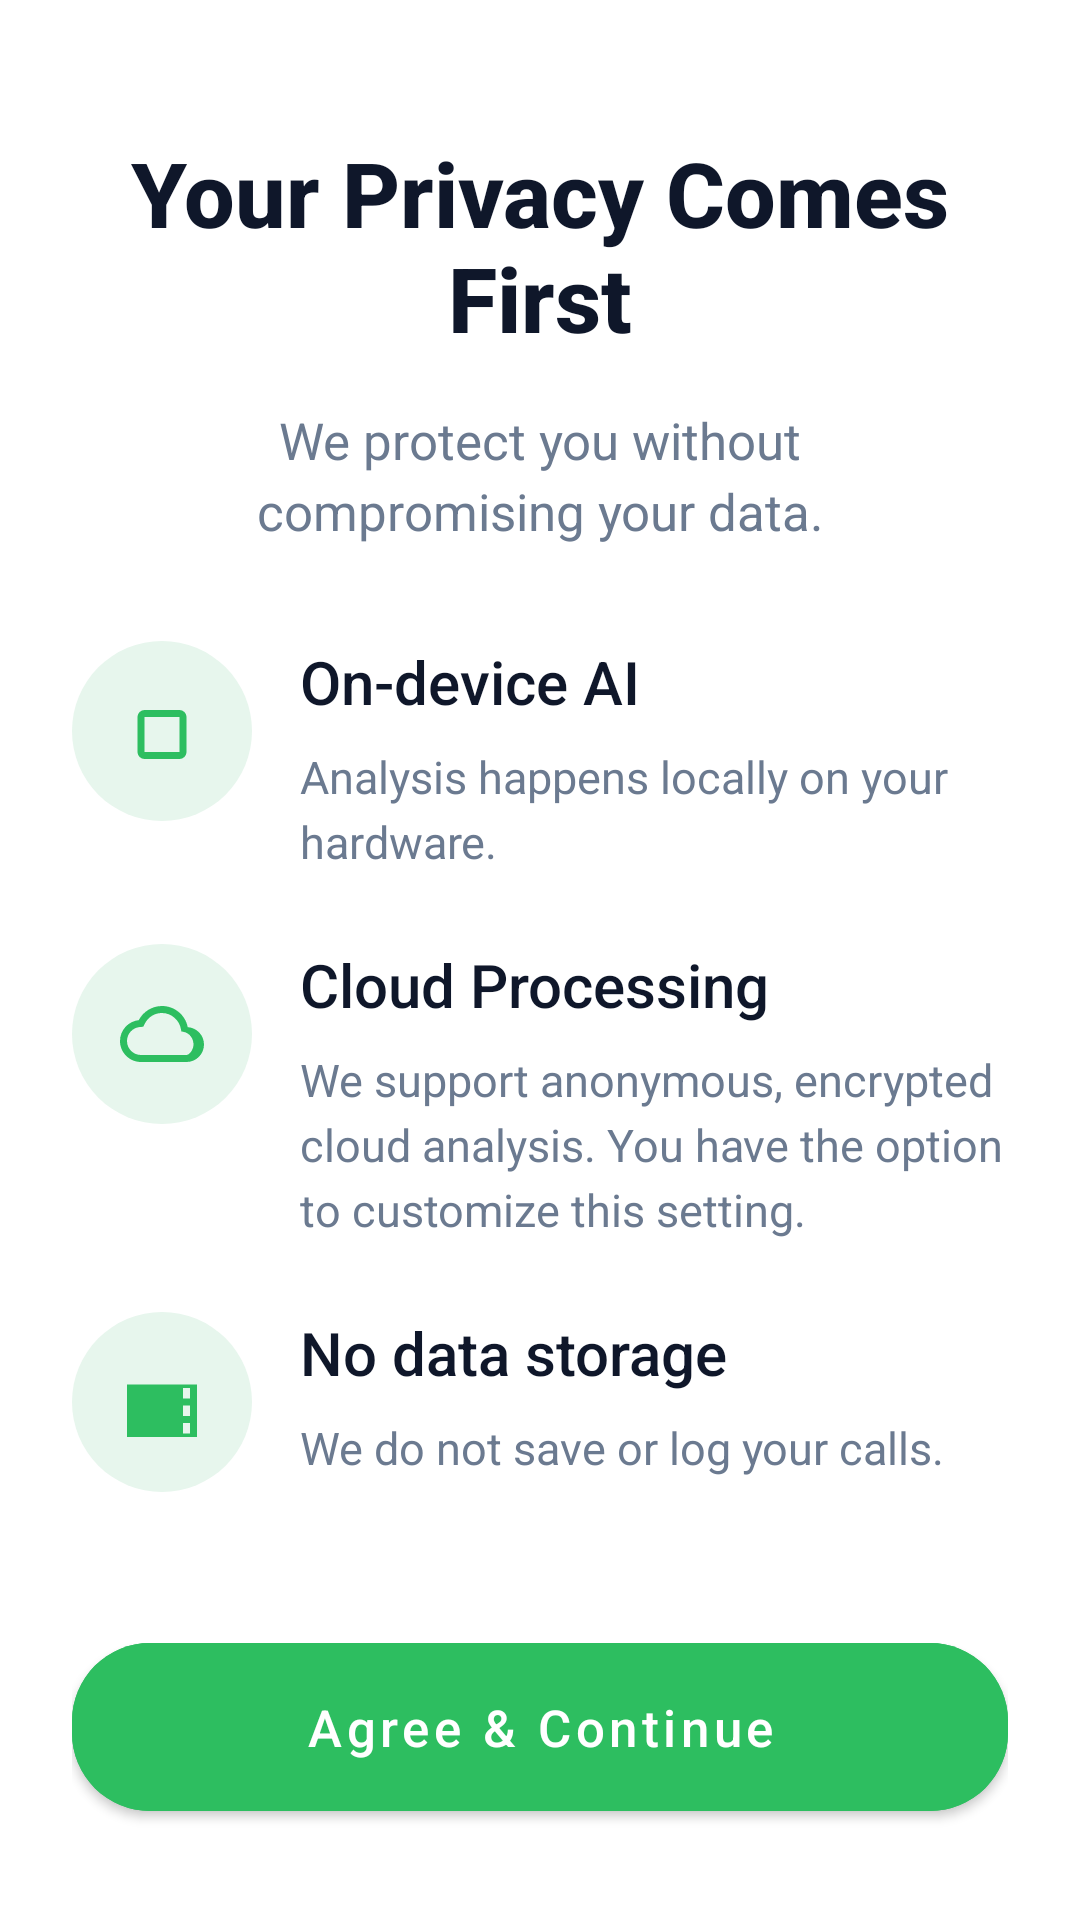

Screen size 1080×1920. Icon name, then its box in pixels as (x1, y1, x2, y2):
privacy cloud: (120, 1006, 204, 1062)
privacy storage: (127, 1384, 197, 1437)
